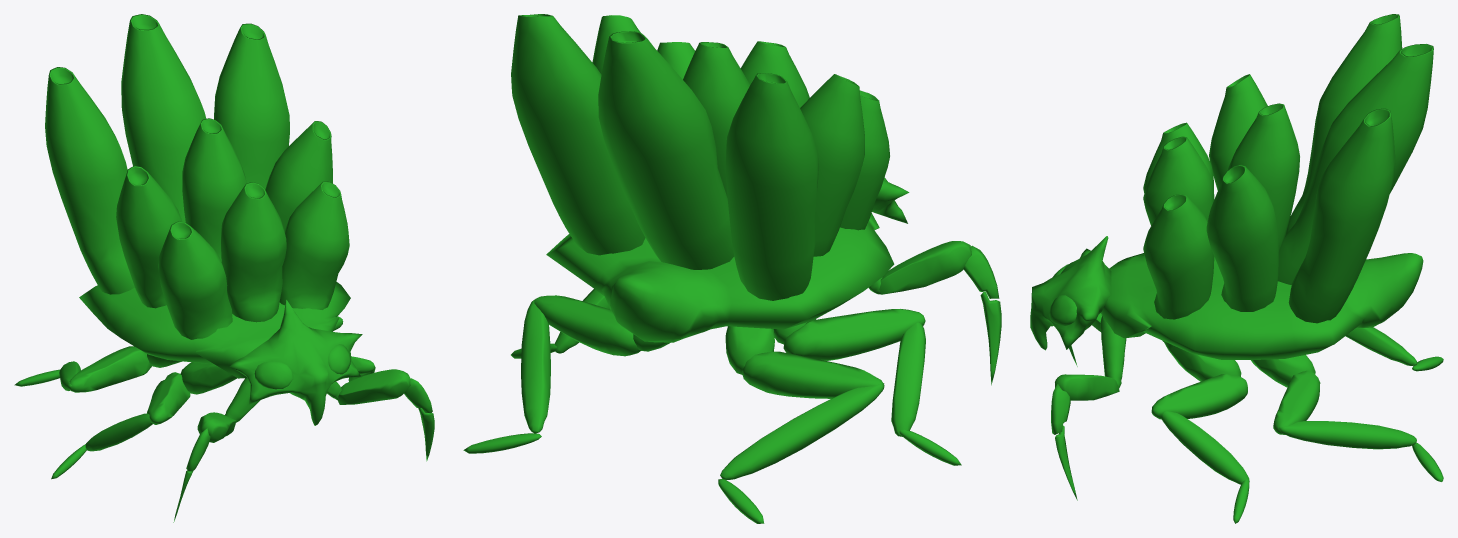
The model's file is Rook_Low.fbx.
3 views of the same model, side by side, from view 1: azimuth 30°, elevation 25°; view 2: azimuth 150°, elevation 25°; view 3: azimuth 270°, elevation 25° (orthographic). The views are drawn at different scales.
Parts seen in each view (by area): view 1: Rook; view 2: Rook; view 3: Rook.
Part boxes in pixels (box(x1,y1,x2,y2)): Rook: box(14, 14, 434, 522); Rook: box(463, 14, 1001, 523); Rook: box(1030, 14, 1443, 523).
Bounding box in the file's own units: 103 × 99.75 × 96.61.
